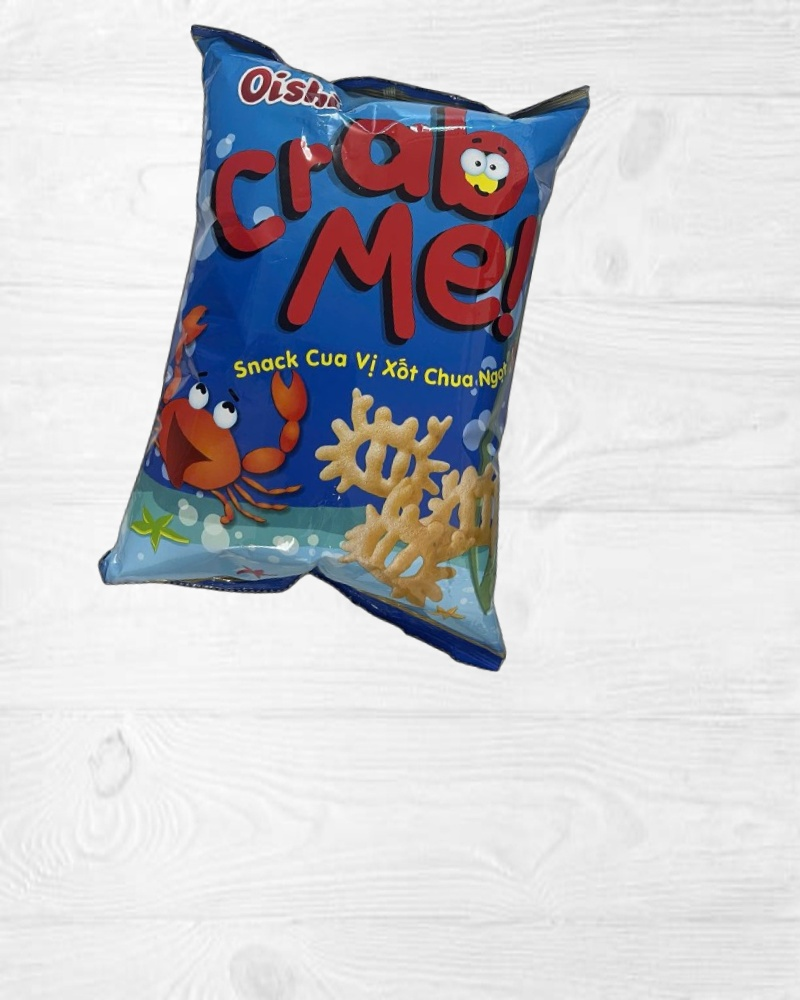Snack chay: (91, 17, 606, 675)
